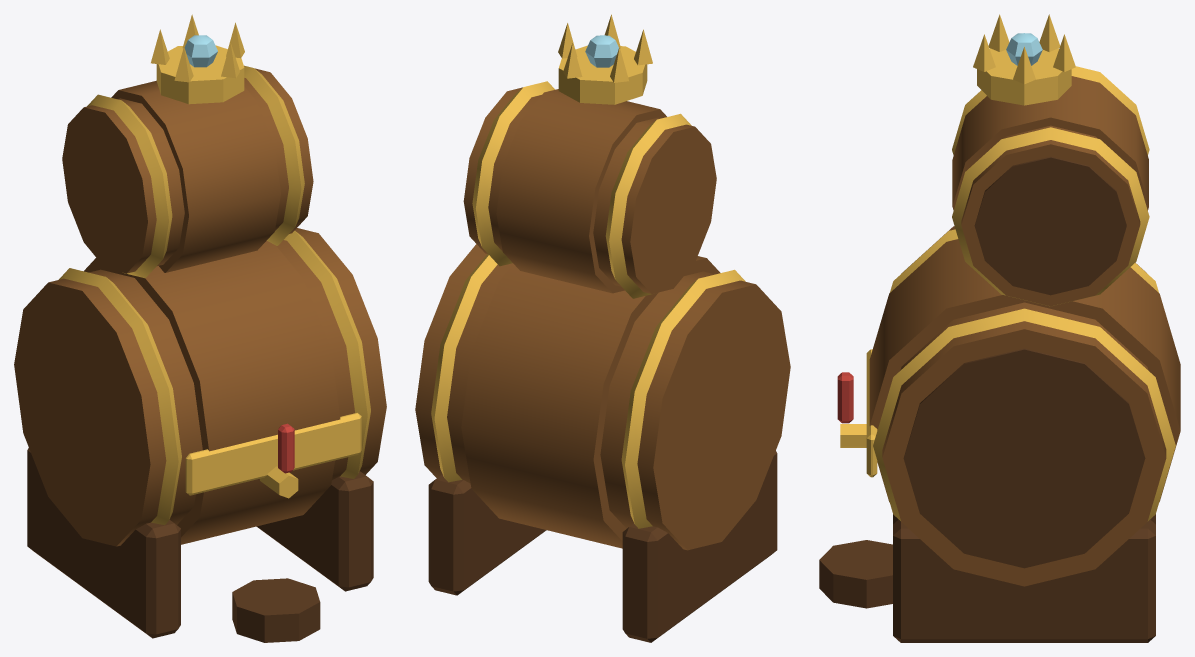
File: PR_Station_Bira_T3.fbx
3 renders of one model, left to right at view 1: azimuth 30°, elevation 25°; view 2: azimuth 150°, elevation 25°; view 3: azimuth 270°, elevation 25°, orthographic. The views are drawn at different scales.
Visible parts, largest first — view 1: PR_Station_Bira_T3; view 2: PR_Station_Bira_T3; view 3: PR_Station_Bira_T3.
Boxes of the visible parts, bbox=[...] form: PR_Station_Bira_T3: bbox=[14, 14, 386, 642]; PR_Station_Bira_T3: bbox=[415, 14, 790, 642]; PR_Station_Bira_T3: bbox=[819, 14, 1180, 642].
Size of the model in its own units: 0.545 by 1.18 by 0.687.
1 material, 1 textured.
